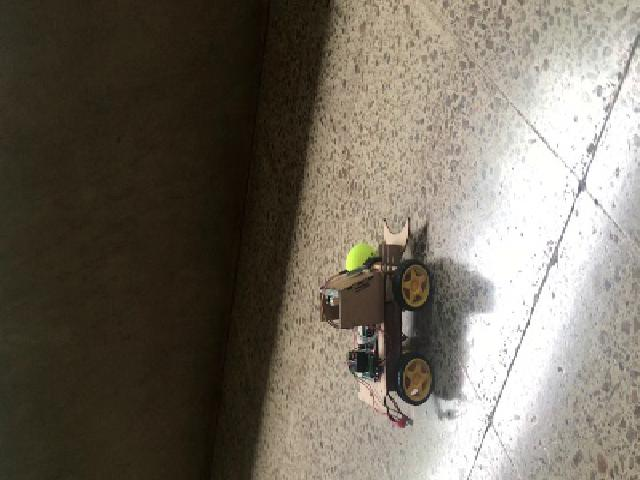Ball: (342, 245, 373, 271)
Robot: (318, 217, 435, 413)
